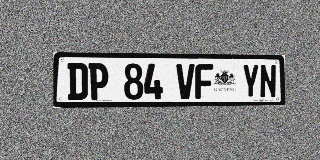4: (144, 63, 163, 99)
8: (124, 63, 143, 100)
D: (68, 63, 88, 100)
F: (195, 64, 213, 99)
N: (260, 64, 276, 98)
P: (89, 63, 108, 100)
V: (176, 64, 195, 99)
Y: (242, 64, 259, 98)
